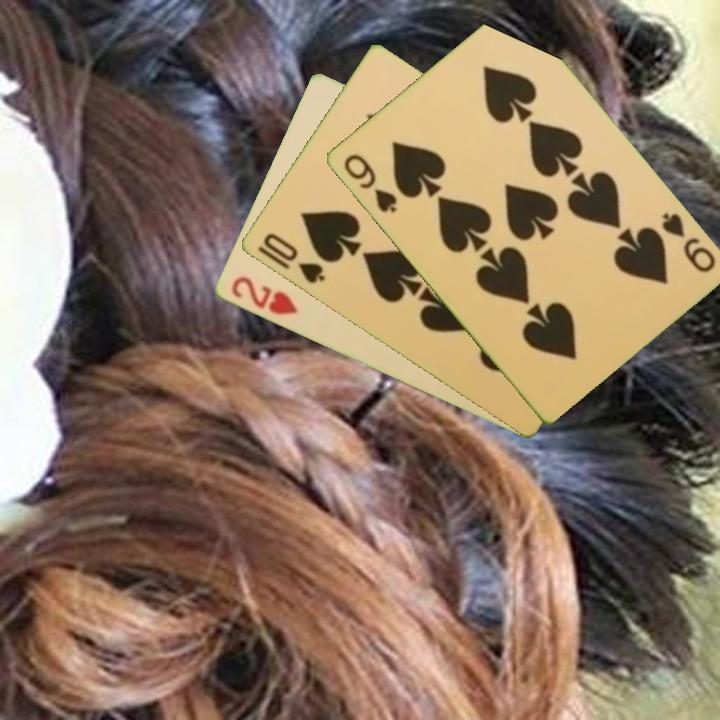10s: (253, 229, 328, 287)
2h: (227, 273, 300, 318)
9s: (657, 209, 718, 276), (339, 150, 400, 216)
